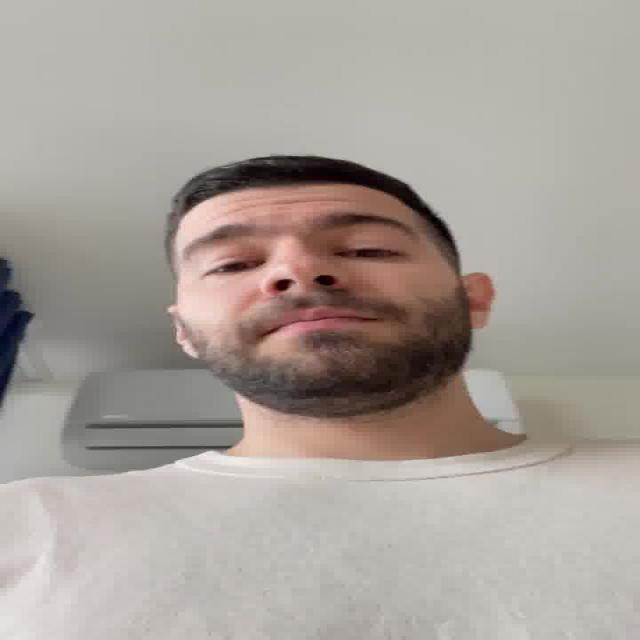earlobe: (181, 346, 207, 362), (469, 317, 490, 333)
eye: (334, 243, 405, 262), (200, 257, 265, 277)
nose: (263, 283, 351, 308)
wholeear: (459, 271, 498, 333), (165, 305, 205, 361)
